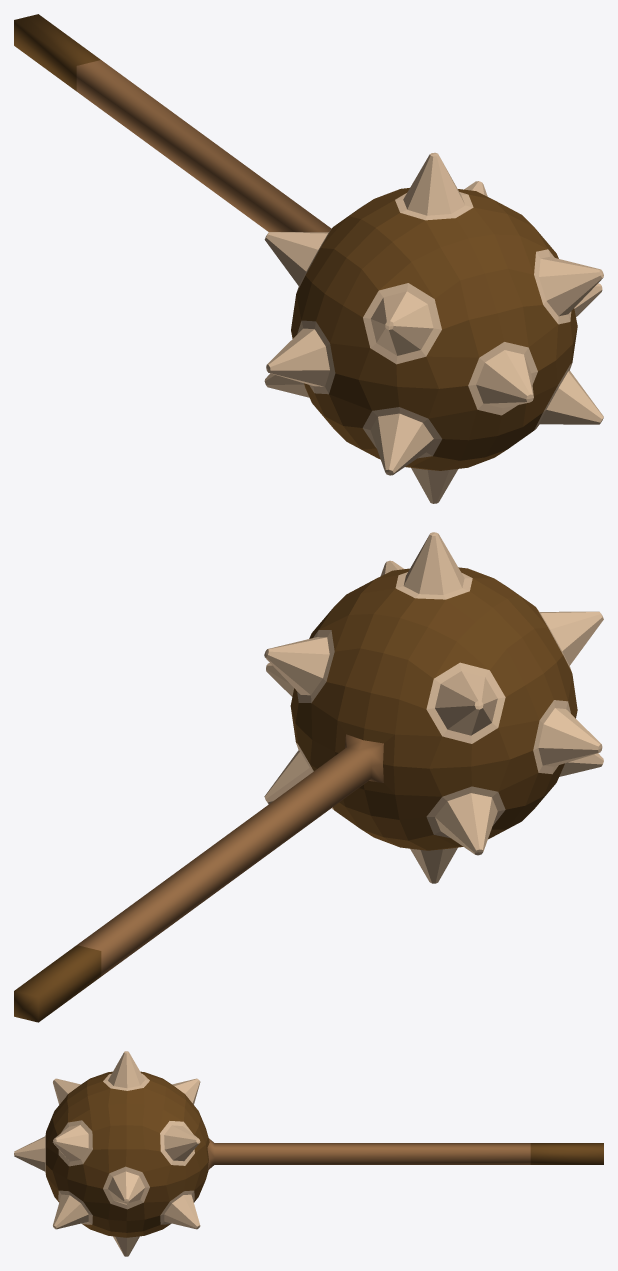
Rendered from char_000_weapon_02_sample_02_FBX.fbx.
3 views of the same model, one above another, from view 1: azimuth 30°, elevation 25°; view 2: azimuth 150°, elevation 25°; view 3: azimuth 270°, elevation 25° (orthographic). The views are drawn at different scales.
Visible parts, largest first — view 1: weapon_sample_02; view 2: weapon_sample_02; view 3: weapon_sample_02.
Part boxes in pixels (x1,y1,x2,y2): weapon_sample_02: (14,14,603,503); weapon_sample_02: (14,532,603,1022); weapon_sample_02: (14,1051,603,1256).
Size of the model in its own units: 1.66 by 1.66 by 4.35.
Materials: 1 (1 with a texture image).
